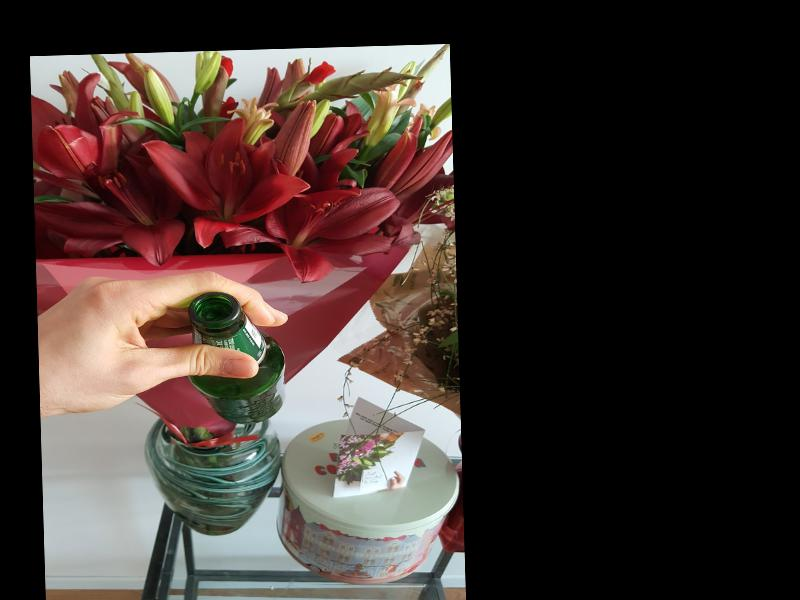Beer: (184, 289, 286, 425)
